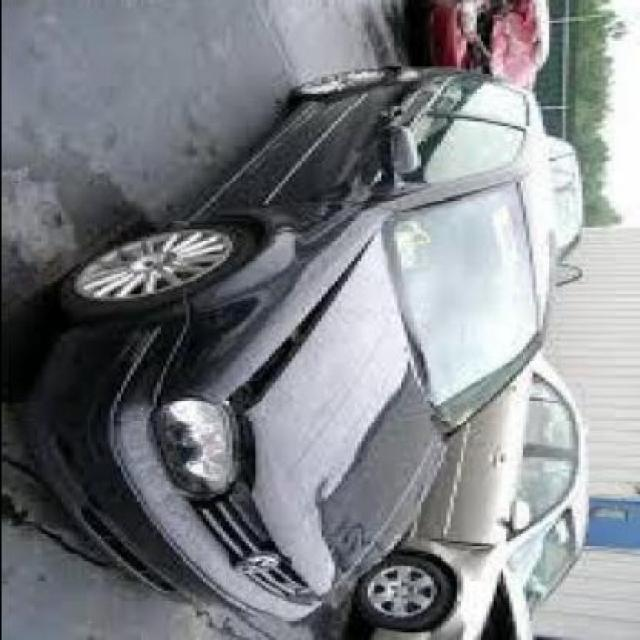damage: (223, 241, 371, 611)
